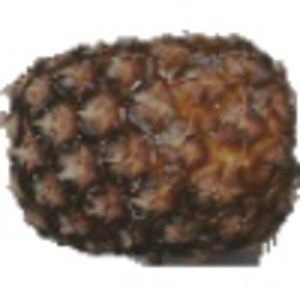abacaxi: (4, 26, 295, 254)
